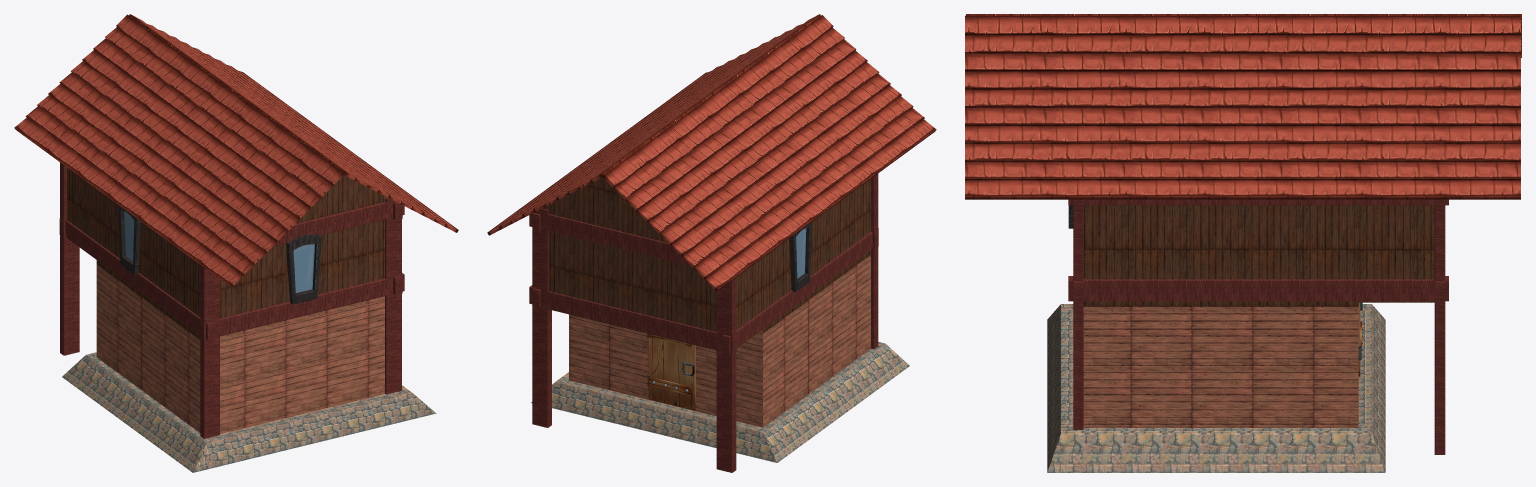
The model's file is building 3 new.FBX.
3 renders of one model, left to right at view 1: azimuth 30°, elevation 25°; view 2: azimuth 150°, elevation 25°; view 3: azimuth 270°, elevation 25°, orthographic. The views are drawn at different scales.
Visible parts, largest first — view 1: Plane667, Box128, Group004, Box912, Plane668, Box909, Box918; view 2: Plane667, Box128, Group004, Box912, Plane668, Box933, Box918; view 3: Plane668, Box128, Box912, Group004, Plane667.
Part boxes in pixels (box(x1,y1,x2,y2)): Plane667: box(14, 14, 343, 287); Box128: box(67, 167, 387, 433); Group004: box(59, 162, 404, 438); Box912: box(62, 352, 436, 472); Plane668: box(129, 14, 458, 232); Box909: box(286, 234, 321, 304); Box918: box(118, 205, 140, 274); Plane667: box(602, 15, 936, 291); Box128: box(542, 177, 870, 427); Group004: box(529, 173, 878, 472); Box912: box(531, 342, 909, 462); Plane668: box(487, 14, 820, 235); Box933: box(647, 333, 695, 410); Box918: box(789, 222, 812, 292); Plane668: box(965, 15, 1520, 199); Box128: box(1083, 205, 1434, 427); Box912: box(1047, 304, 1385, 472); Group004: box(1068, 199, 1448, 454); Plane667: box(966, 14, 1521, 57).
Size of the model in its own units: 535 by 619 by 821.
